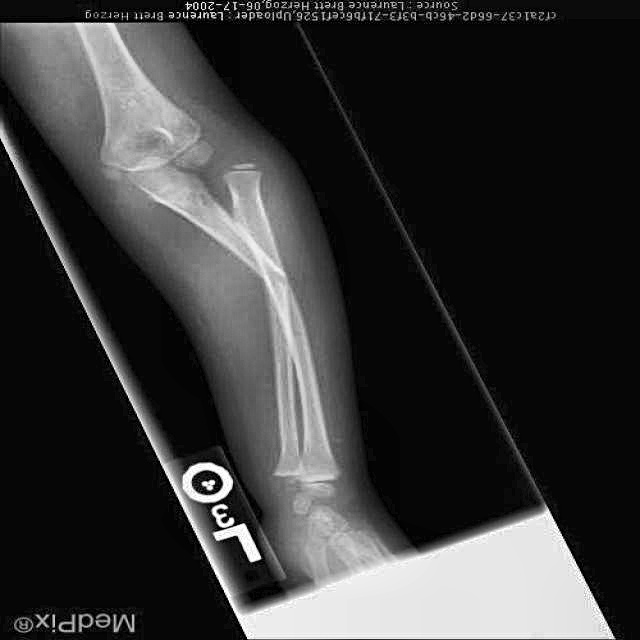Spiral: (242, 230, 296, 339)
